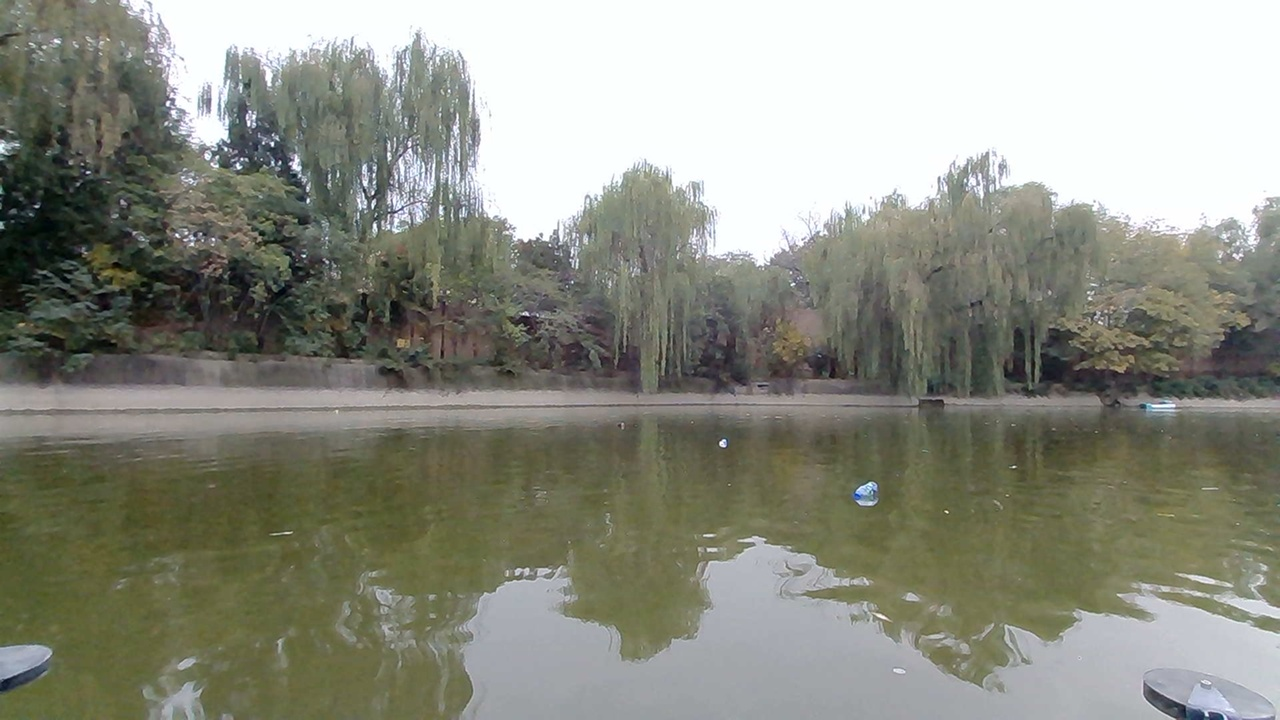bottle: (837, 459, 895, 509), (702, 426, 741, 455), (609, 411, 637, 437)
